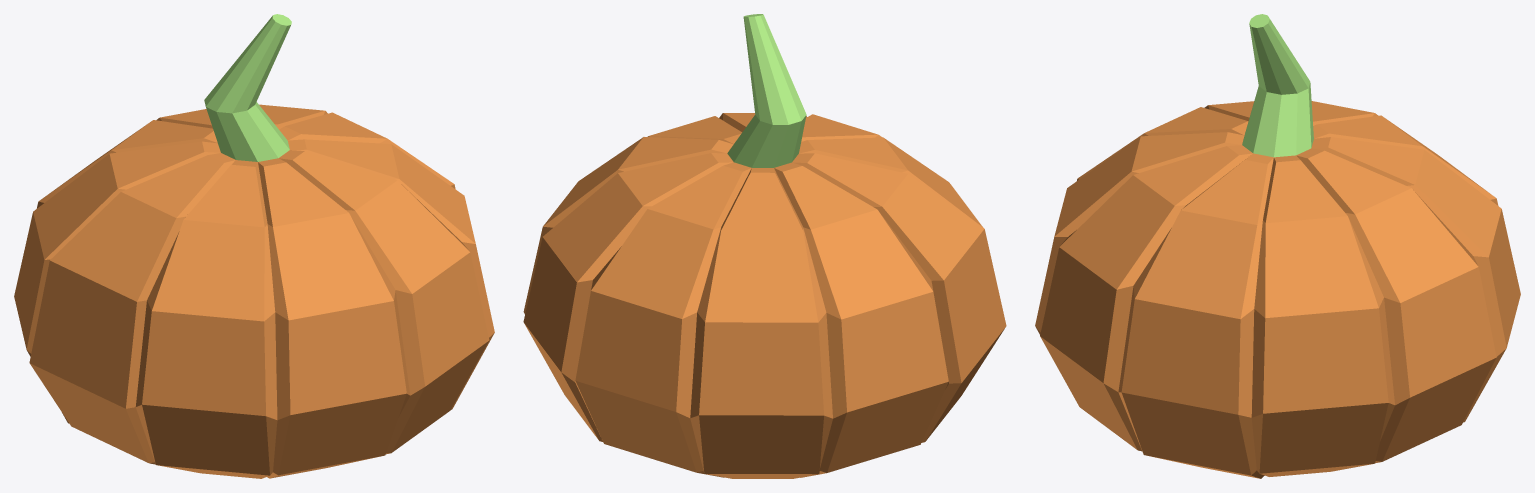
File: pumpkin.glb
3 renders of one model, left to right at view 1: azimuth 30°, elevation 25°; view 2: azimuth 150°, elevation 25°; view 3: azimuth 270°, elevation 25°, orthographic. The views are drawn at different scales.
Visible parts, largest first — view 1: Pumpkin_Crop; view 2: Pumpkin_Crop; view 3: Pumpkin_Crop.
Part boxes in pixels (box(x1,y1,x2,y2)): Pumpkin_Crop: box(14, 14, 494, 478); Pumpkin_Crop: box(523, 14, 1006, 478); Pumpkin_Crop: box(1035, 14, 1520, 478).
Size of the model in its own units: 0.5875 by 0.5544 by 0.578.
